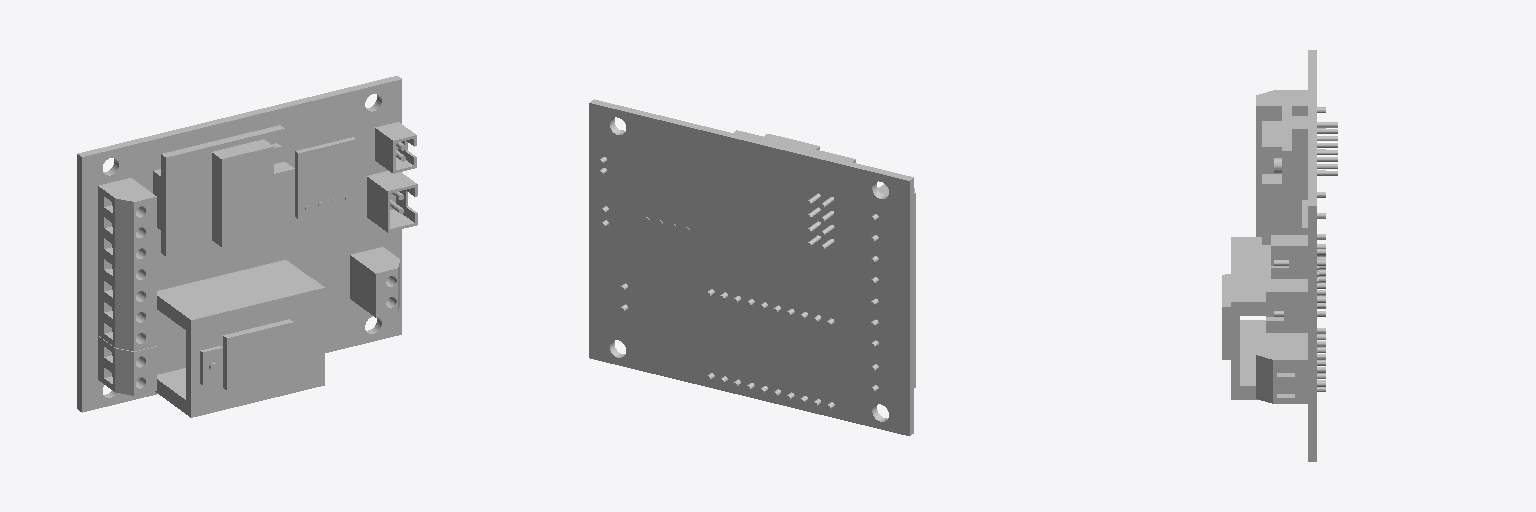
File: MLA30 v2.1.obj
3 views of the same model, side by side, from view 1: azimuth 30°, elevation 25°; view 2: azimuth 150°, elevation 25°; view 3: azimuth 270°, elevation 25° (orthographic).
Visible parts, largest first — view 1: Corps3, PCB:1, SX11278, PCB, Corps1, Corps33, Corps1:5, Corps1:9, Corps1:3, Corps1:2, Corps1:6, Corps1:4 (+5 smaller); view 2: Corps3; view 3: Corps3, Corps1:2, SX11278, Corps1:1, Corps1:7, PCB:1, PCB, Corps1:3, Corps32, Corps31, connecteur, Corps1:9 (+3 smaller).
Part boxes in pixels (x1,y1,x2,y2): Corps3: (77,76,401,412); PCB:1: (186,284,324,417); SX11278: (212,139,294,246); PCB: (161,125,284,255); Corps1: (295,137,355,218); Corps33: (223,319,293,390); Corps1:5: (98,272,156,351); Corps1:9: (157,260,311,323); Corps1:3: (98,178,156,245); Corps1:2: (350,247,399,317); Corps1:6: (98,336,156,395); Corps1:4: (98,230,156,286); Corps3: (589,99,913,435); Corps3: (1308,50,1316,461); Corps1:2: (1256,344,1307,403); SX11278: (1262,121,1291,244); Corps1:1: (1266,277,1307,332); Corps1:7: (1271,235,1307,278); PCB:1: (1231,237,1239,399); PCB: (1282,93,1291,234); Corps1:3: (1256,90,1307,150); Corps32: (1240,320,1255,399); Corps31: (1240,237,1255,315); connecteur: (1292,116,1307,181); Corps1:9: (1256,237,1270,315).
Size of the model in its own units: 6.1 by 4.65 by 1.91.